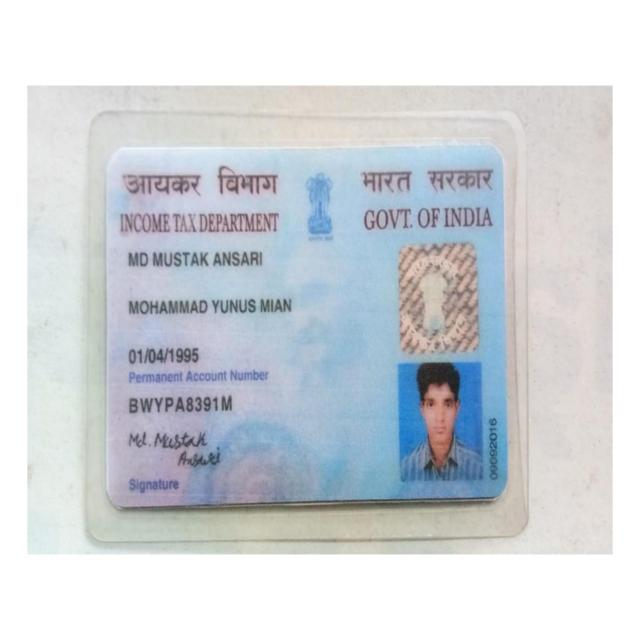pan_card: (109, 152, 504, 503)
